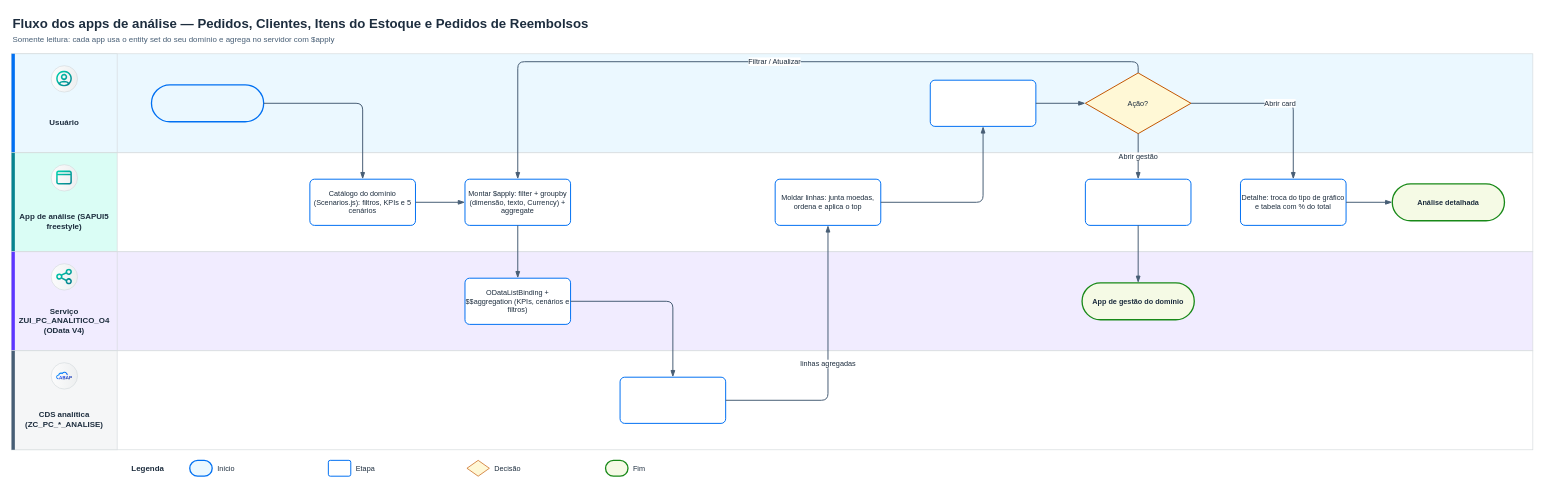
Image size: 1544x488. Some labels were removed from this diagram. Here are the shapes that lost their labels. From the top down, the centre of each, then its label:
At point (207, 103): "Abrir o tile da análise".
At point (982, 103): "Painel: indicadores e 5 gráficos (sap.viz)".
At point (1138, 202): "Abrir gestão: intent ZPC*-manage ou BSP irmã".
At point (672, 400): "Agregação no servidor (@Aggregation.default)".
